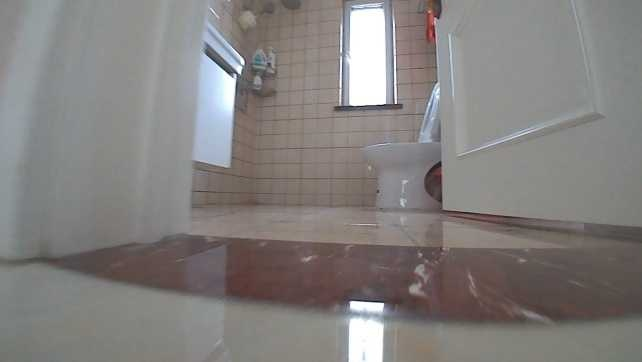door_anno: (431, 0, 641, 225)
toilet: (359, 80, 442, 210)
